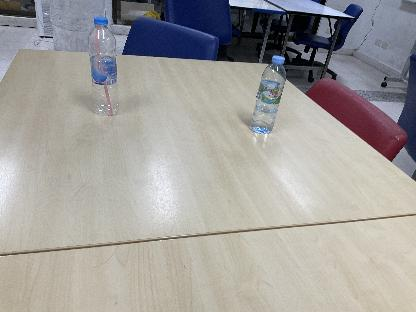Plastic Bottle: (87, 14, 121, 118), (252, 53, 286, 135)
